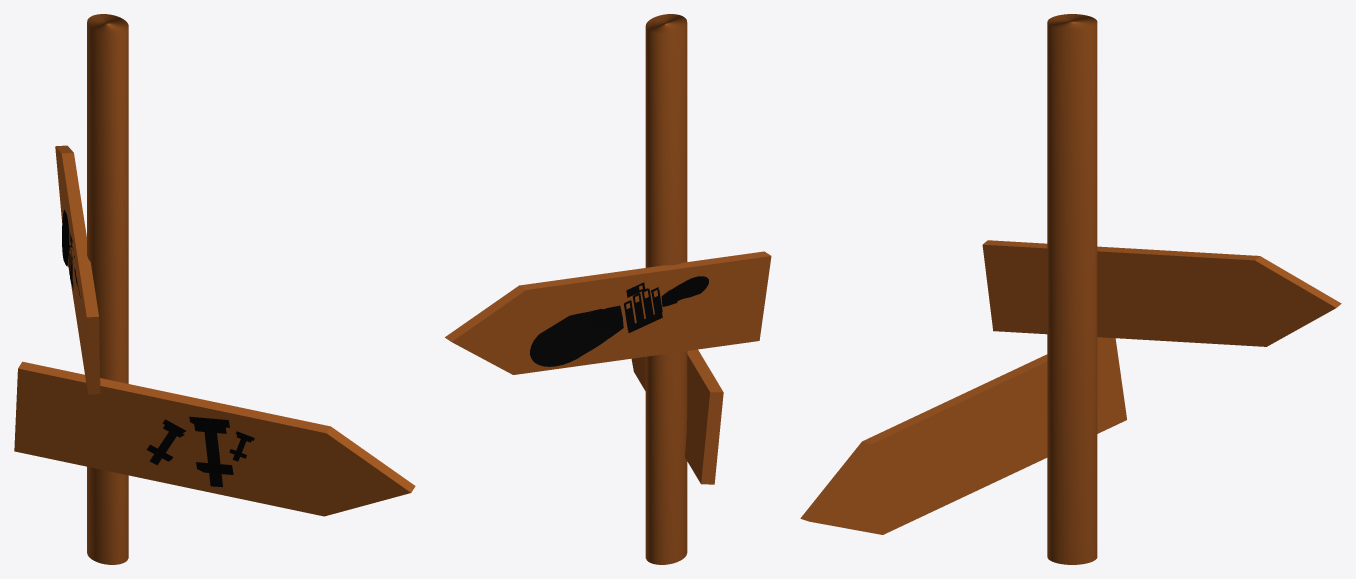
The model's file is ukukazatelvelikana333.fbx.
3 views of the same model, side by side, from view 1: azimuth 30°, elevation 25°; view 2: azimuth 150°, elevation 25°; view 3: azimuth 270°, elevation 25° (orthographic).
Visible parts, largest first — view 1: Cube.001, Cylinder, Cube.002, Plane.002; view 2: Cube.002, Cylinder, Cube.001, Cylinder.002, Plane.006, Cylinder.001; view 3: Cylinder, Cube.002, Cube.001.
Part boxes in pixels (x1=…): Cube.001: x1=14, y1=361, x2=415, y2=516; Cylinder: x1=87, y1=14, x2=128, y2=564; Cube.002: x1=55, y1=145, x2=100, y2=394; Plane.002: x1=146, y1=416, x2=254, y2=487; Cube.002: x1=445, y1=251, x2=771, y2=374; Cylinder: x1=645, y1=14, x2=687, y2=564; Cube.001: x1=631, y1=349, x2=723, y2=484; Cylinder.002: x1=530, y1=305, x2=623, y2=366; Plane.006: x1=624, y1=282, x2=662, y2=332; Cylinder.001: x1=661, y1=276, x2=708, y2=306; Cylinder: x1=1047, y1=14, x2=1097, y2=564; Cube.002: x1=982, y1=240, x2=1341, y2=346; Cube.001: x1=800, y1=337, x2=1126, y2=534.
Size of the model in its own units: 158 by 320 by 294.
